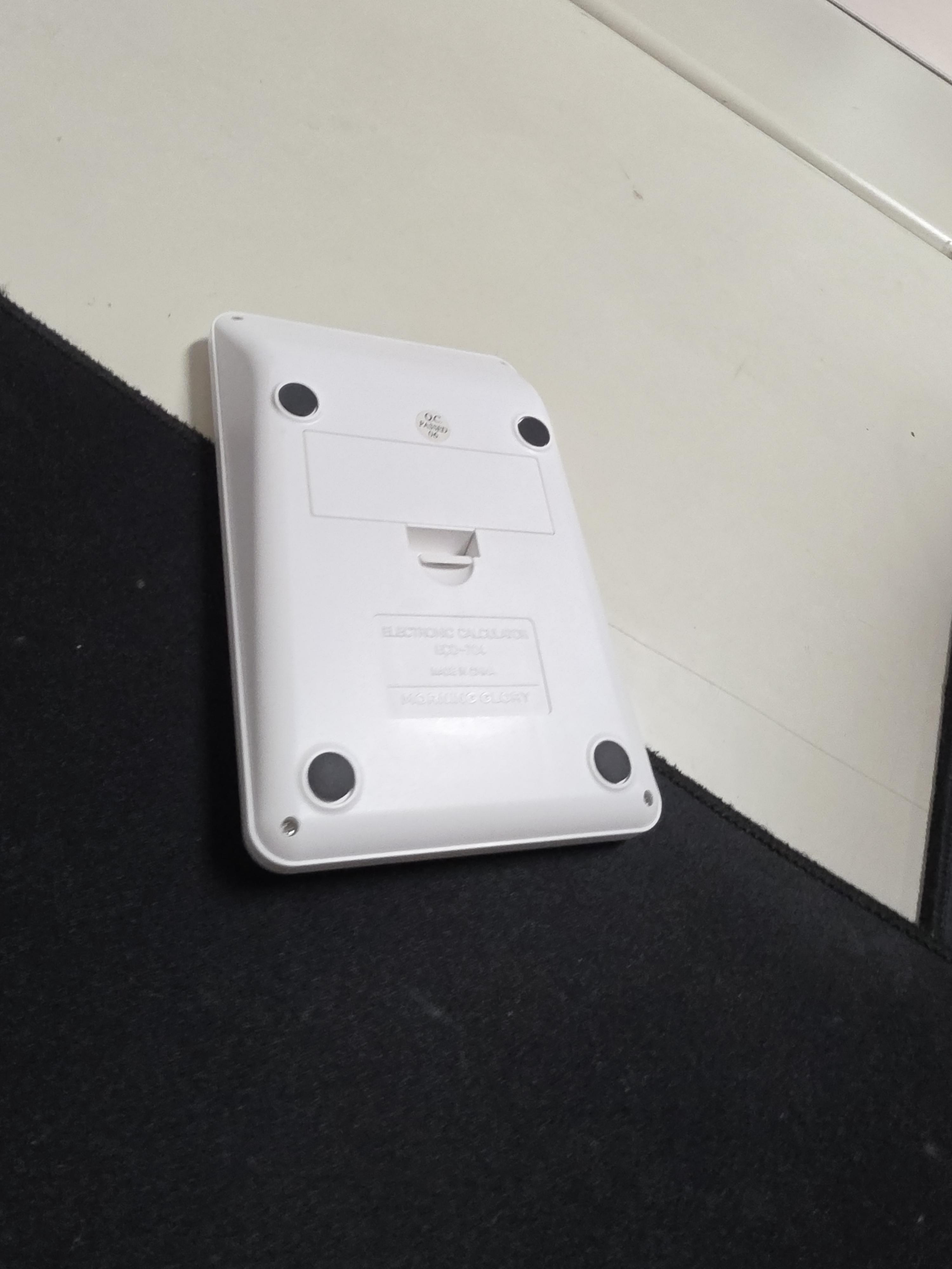calculator: (209, 309, 664, 875)
